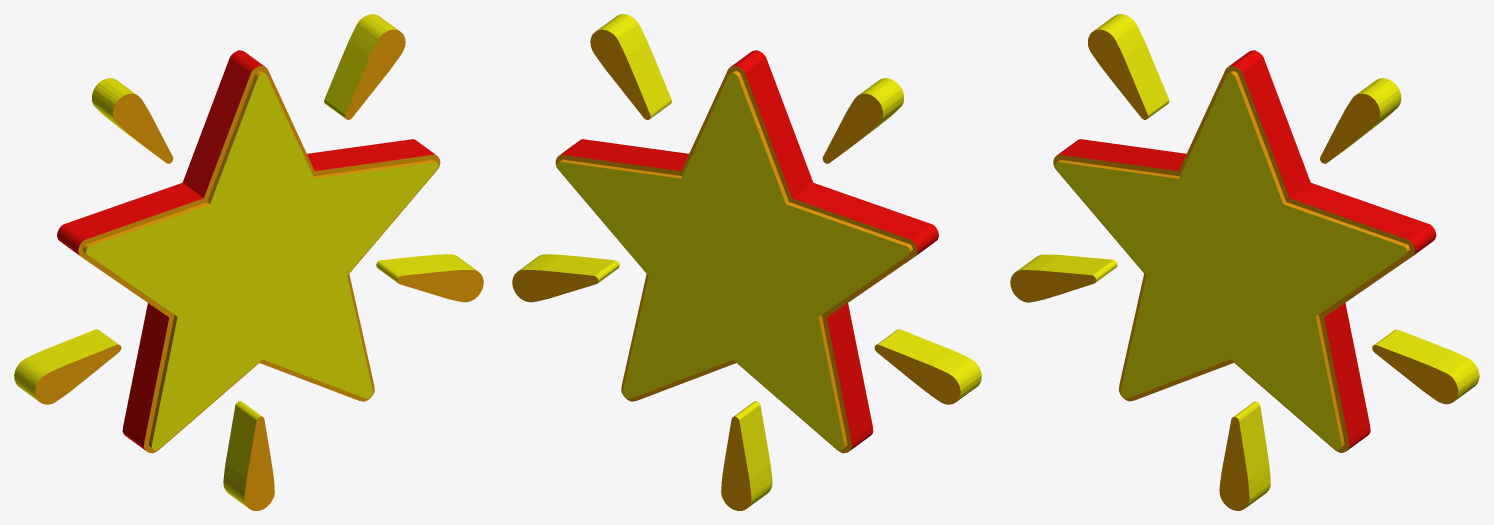
File: gamepoint.fbx
The picture shows the model from 3 angles, left to right: view 1: azimuth 30°, elevation 25°; view 2: azimuth 150°, elevation 25°; view 3: azimuth 330°, elevation 25°; orthographic projection.
Visible parts, largest first — view 1: Plane; view 2: Plane; view 3: Plane.
Part boxes in pixels (x1,y1,x2,y2): Plane: [14, 14, 483, 510]; Plane: [512, 14, 981, 510]; Plane: [1010, 14, 1479, 510].
Bounding box in the file's own units: 502 × 480 × 52.89.
